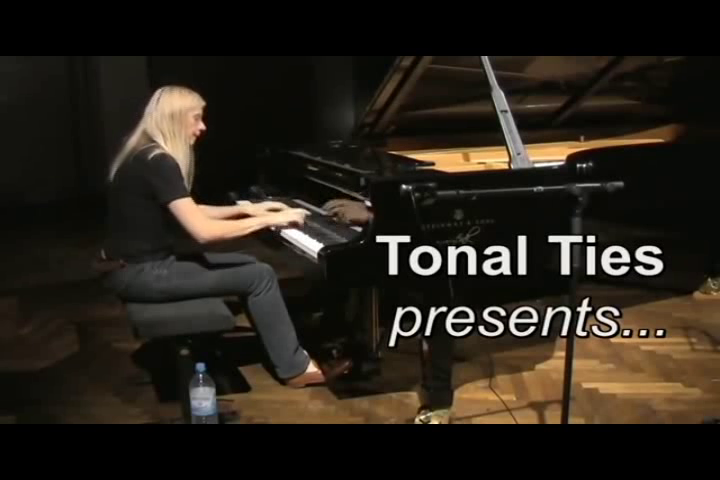keyboard: (229, 196, 366, 269)
